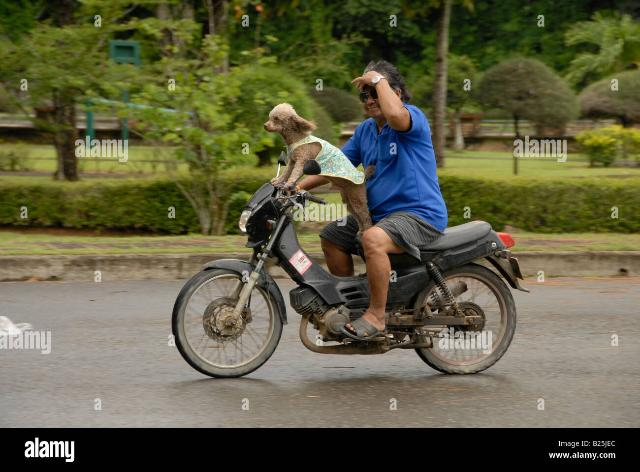motor: (172, 150, 525, 383)
non-helm: (360, 64, 405, 118)
